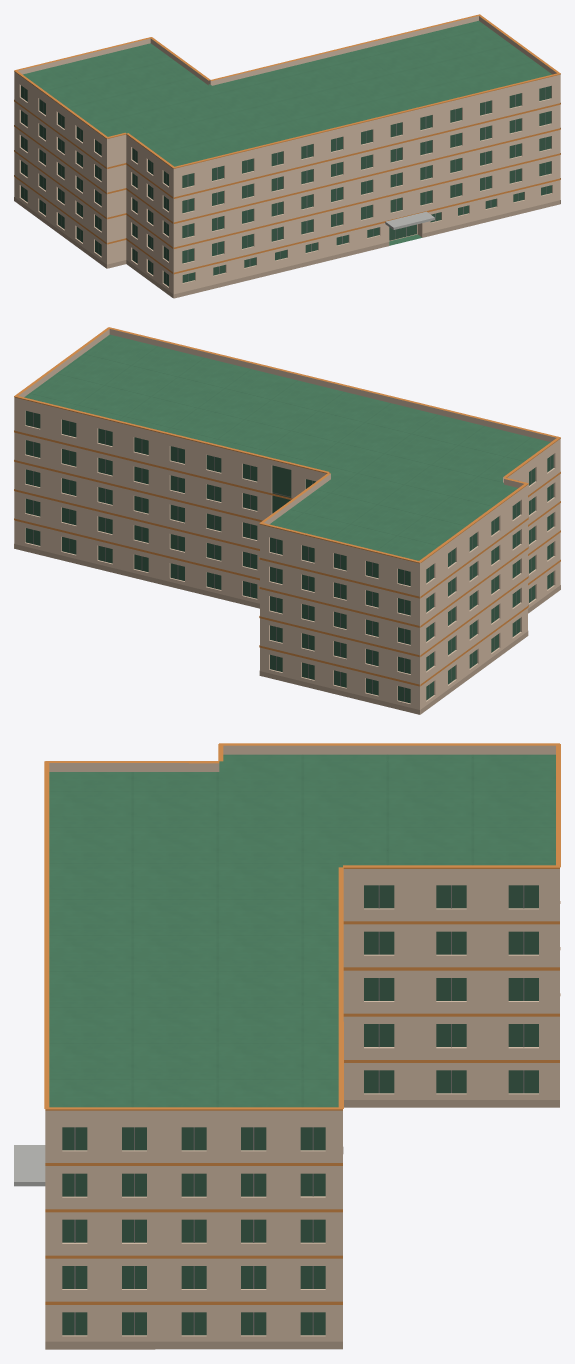
3 views of the same model, one above another, from view 1: azimuth 30°, elevation 25°; view 2: azimuth 150°, elevation 25°; view 3: azimuth 270°, elevation 25° (orthographic). The views are drawn at different scales.
Visible parts, largest first — view 1: basicScience__wall, basicScience__roof, basicScience__glass, basicScience__trim, basicScience__parapet, basicScience__base, basicScience__frame, basicScience__canopy; view 2: basicScience__wall, basicScience__roof, basicScience__glass, basicScience__trim, basicScience__parapet, basicScience__base, basicScience__frame; view 3: basicScience__roof, basicScience__wall, basicScience__glass, basicScience__trim, basicScience__parapet, basicScience__base, basicScience__frame, basicScience__canopy.
Part boxes in pixels (x1,y1,x2,y2): basicScience__wall: (14,75,560,298); basicScience__roof: (23,20,551,245); basicScience__glass: (21,85,551,286); basicScience__trim: (14,14,560,274); basicScience__parapet: (14,16,560,172); basicScience__base: (14,197,560,298); basicScience__frame: (24,87,546,284); basicScience__canopy: (385,211,434,229); basicScience__wall: (14,402,560,714); basicScience__roof: (24,334,550,560); basicScience__glass: (25,411,553,703); basicScience__trim: (14,327,560,686); basicScience__parapet: (14,329,560,567); basicScience__base: (14,544,560,714); basicScience__frame: (33,412,550,701); basicScience__roof: (49,754,555,1107); basicScience__wall: (45,876,559,1341); basicScience__glass: (62,885,538,1335); basicScience__trim: (44,743,560,1304); basicScience__parapet: (45,745,559,1117); basicScience__base: (45,1100,559,1349); basicScience__frame: (74,885,524,1335); basicScience__canopy: (14,1145,45,1186).
Size of the model in its own units: 61.1 by 18.7 by 38.6.
9 materials, 1 textured.
